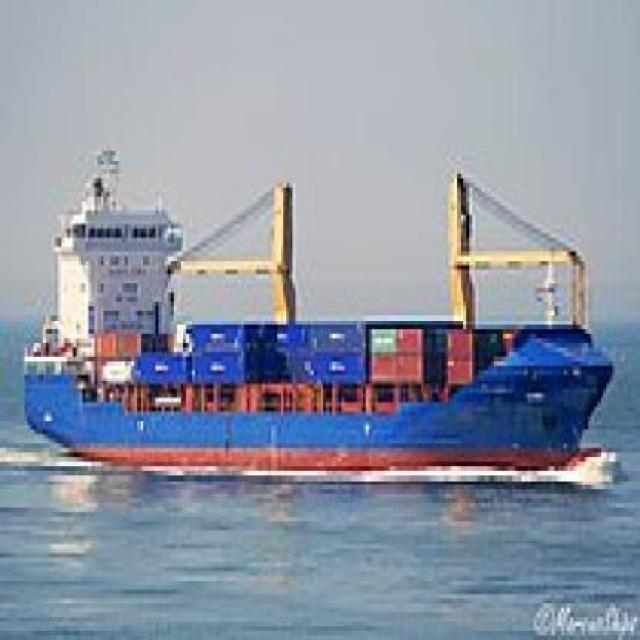Container Ship: (14, 122, 634, 507)
